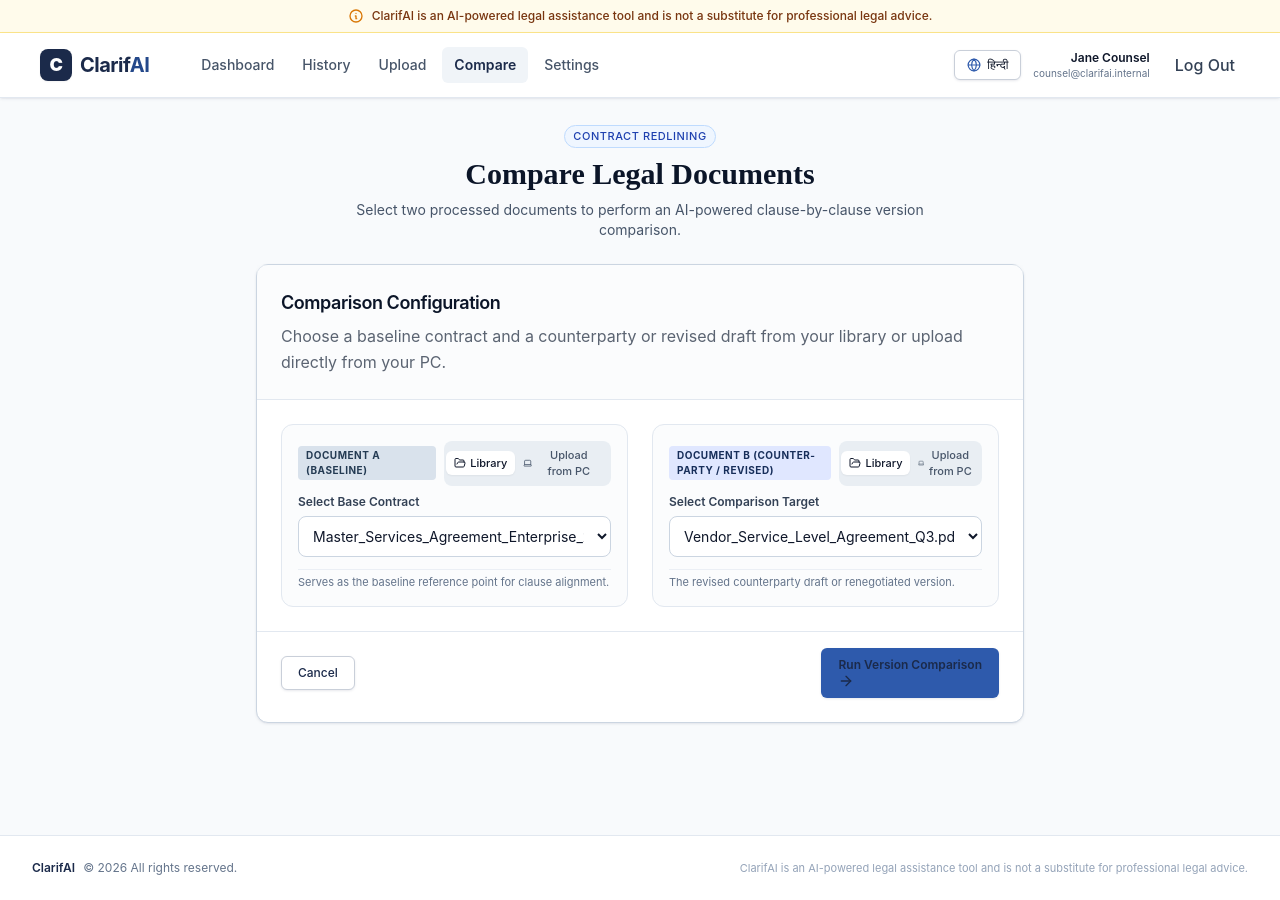
Scenario: Comparison Pages (PRD Ch. 18, 22.10 & Section 8.5) › ComparisonSetupPage (/compare) › blocks comparison and shows explanation if selected document is not complete
The image size is (1280, 900).
Select "Master_Services_Agreement_Enterprise_2026.pdf" in the dropdown labelled "Select Base Contract" at coordinates (454, 536), box [298,516,611,556]
Select "Commercial_Office_Lease_Draft_v2.pdf (extracting)" in the dropdown labelled "Select Comparison Target" at coordinates (826, 536), box [669,516,982,556]
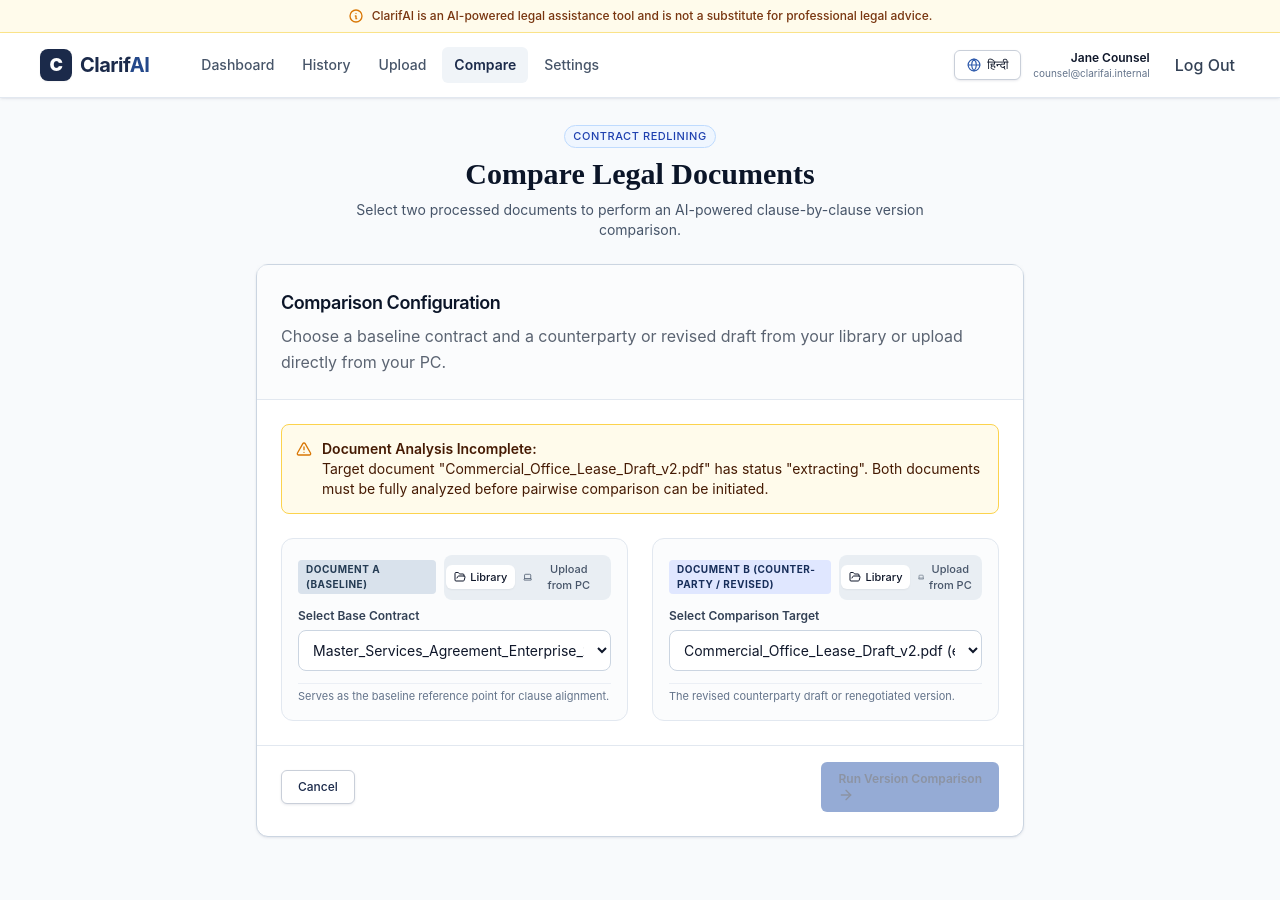
Now the message with test id "incomplete-document-warning" is shown, box [281,424,999,514]
Now the text "Both documents must be fully analyzed before pairwise comparison" is shown, box [322,460,980,496]
Now the button "Run Version Comparison" is disabled, box [822,762,999,812]
